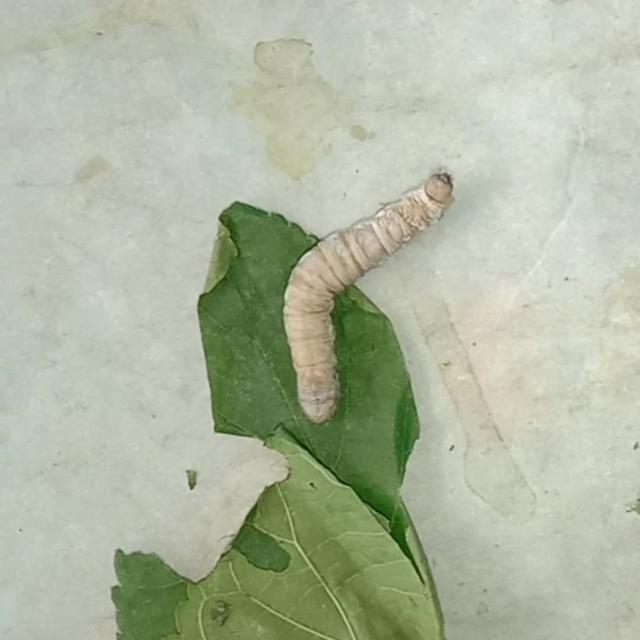Grasserie: (258, 144, 477, 436)
